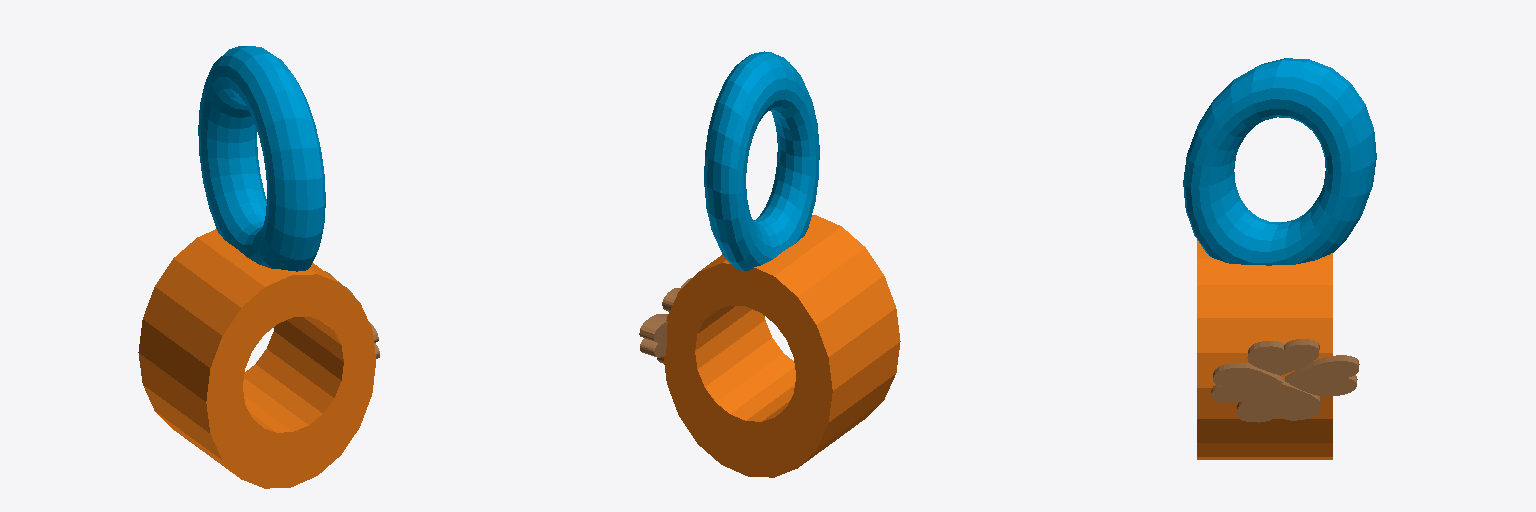
The model's file is tinker.obj.
3 renders of one model, left to right at view 1: azimuth 30°, elevation 25°; view 2: azimuth 150°, elevation 25°; view 3: azimuth 270°, elevation 25°, orthographic.
Parts seen in each view (by area): view 1: obj_0; view 2: obj_0; view 3: obj_0.
Part boxes in pixels (left/top/right/bottom): obj_0: left=138, top=46, right=379, bottom=488; obj_0: left=639, top=51, right=900, bottom=477; obj_0: left=1183, top=58, right=1376, bottom=459.
Bounding box in the file's own units: 45 × 94.21 × 41.43.